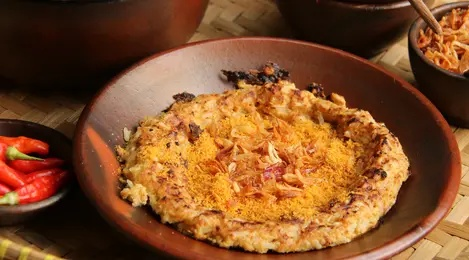kerak_telor: (126, 77, 401, 248)
